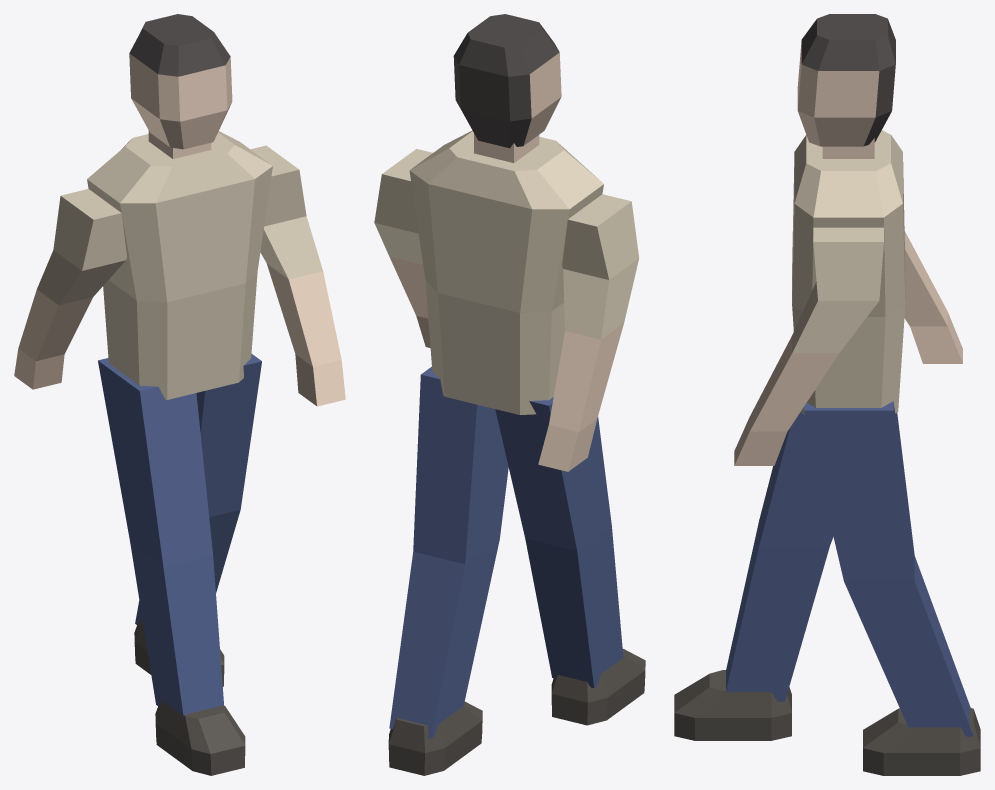
The model's file is pedestrian_4_right.fbx.
3 renders of one model, left to right at view 1: azimuth 30°, elevation 25°; view 2: azimuth 150°, elevation 25°; view 3: azimuth 270°, elevation 25°, orthographic. The views are drawn at different scales.
Visible parts, largest first — view 1: pedestrian_4_right; view 2: pedestrian_4_right; view 3: pedestrian_4_right.
Part boxes in pixels (x1,y1,x2,y2): pedestrian_4_right: (14,14,345,775); pedestrian_4_right: (374,14,645,775); pedestrian_4_right: (674,14,980,775).
Bounding box in the file's own units: 0.61 × 1.68 × 0.65.
